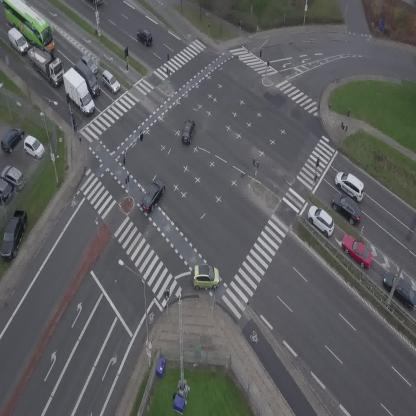bicycle: (71, 115, 79, 132)
car: (337, 229, 379, 273), (326, 188, 368, 228), (330, 167, 371, 203), (135, 175, 170, 216), (303, 202, 341, 239), (190, 262, 220, 291), (97, 68, 123, 96), (134, 25, 156, 48), (79, 52, 101, 75), (179, 117, 197, 145)
lorry: (17, 35, 73, 89), (58, 64, 97, 119), (72, 58, 104, 99), (3, 26, 33, 56), (88, 0, 103, 6)
